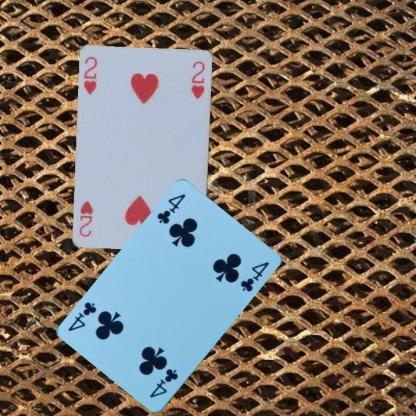2h: (81, 54, 99, 96)
4c: (146, 366, 180, 400), (154, 191, 187, 226)
